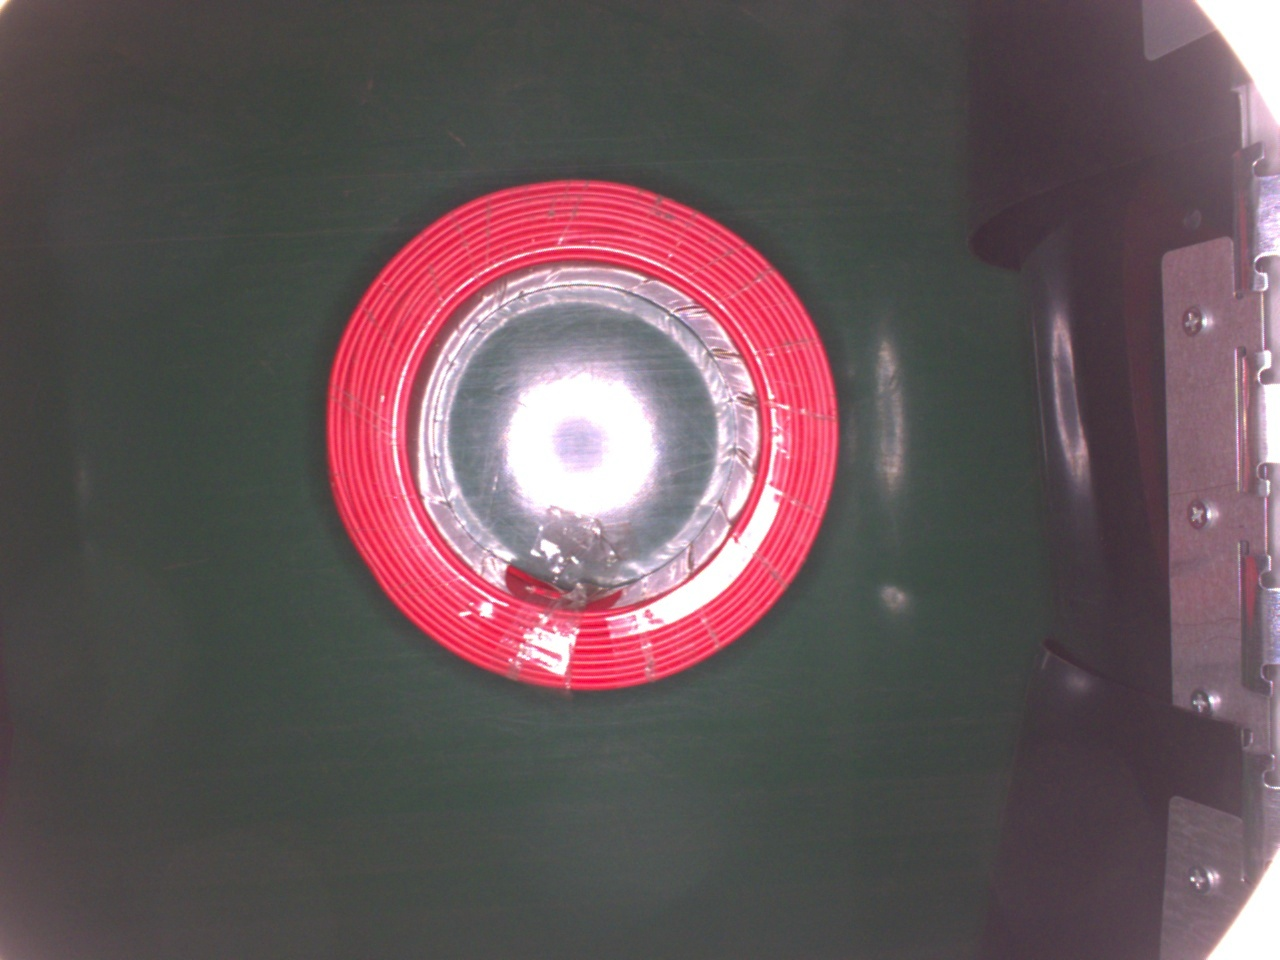red: (326, 173, 837, 685)
